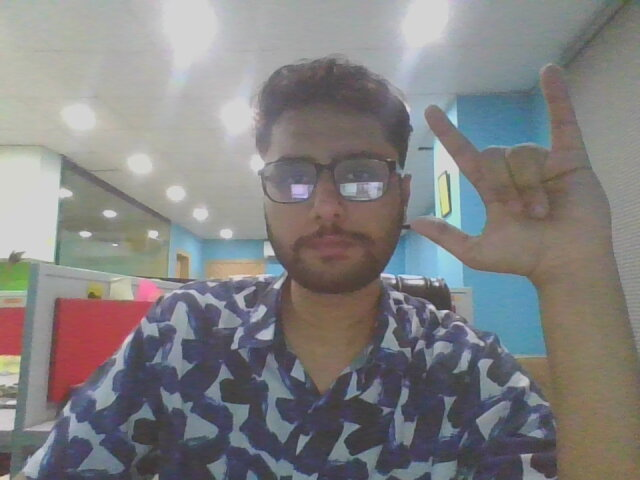iloveyou: (394, 60, 631, 318)
